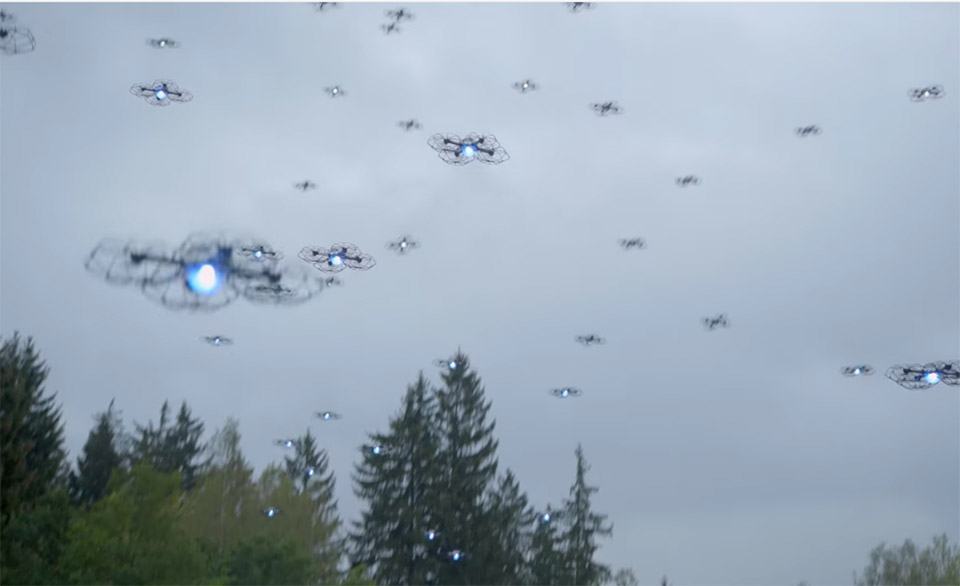drone: (81, 232, 328, 316), (427, 132, 512, 168), (298, 242, 378, 275), (884, 361, 960, 393), (129, 79, 196, 109), (539, 1, 617, 23), (237, 239, 288, 267), (1, 25, 39, 58), (383, 233, 423, 258), (907, 84, 949, 105), (253, 283, 302, 301), (528, 510, 572, 527), (588, 100, 627, 119), (412, 528, 454, 544), (701, 313, 733, 334), (383, 7, 420, 25), (433, 358, 475, 373), (436, 549, 478, 564), (198, 334, 237, 350), (509, 78, 541, 97), (616, 237, 651, 254), (548, 386, 585, 402), (144, 37, 183, 52), (307, 1, 346, 15), (840, 365, 877, 379), (358, 444, 395, 458), (793, 124, 825, 140), (297, 465, 328, 481), (271, 438, 309, 451), (574, 334, 609, 348), (258, 505, 288, 521), (322, 84, 350, 101), (674, 175, 705, 190), (319, 275, 347, 291), (396, 119, 425, 134), (378, 23, 405, 39), (292, 181, 322, 194), (313, 411, 345, 423), (1, 9, 21, 24)
